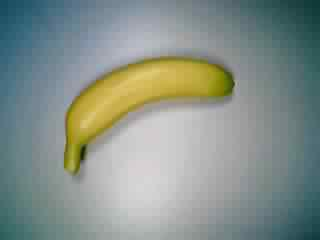banana: (60, 47, 242, 177)
